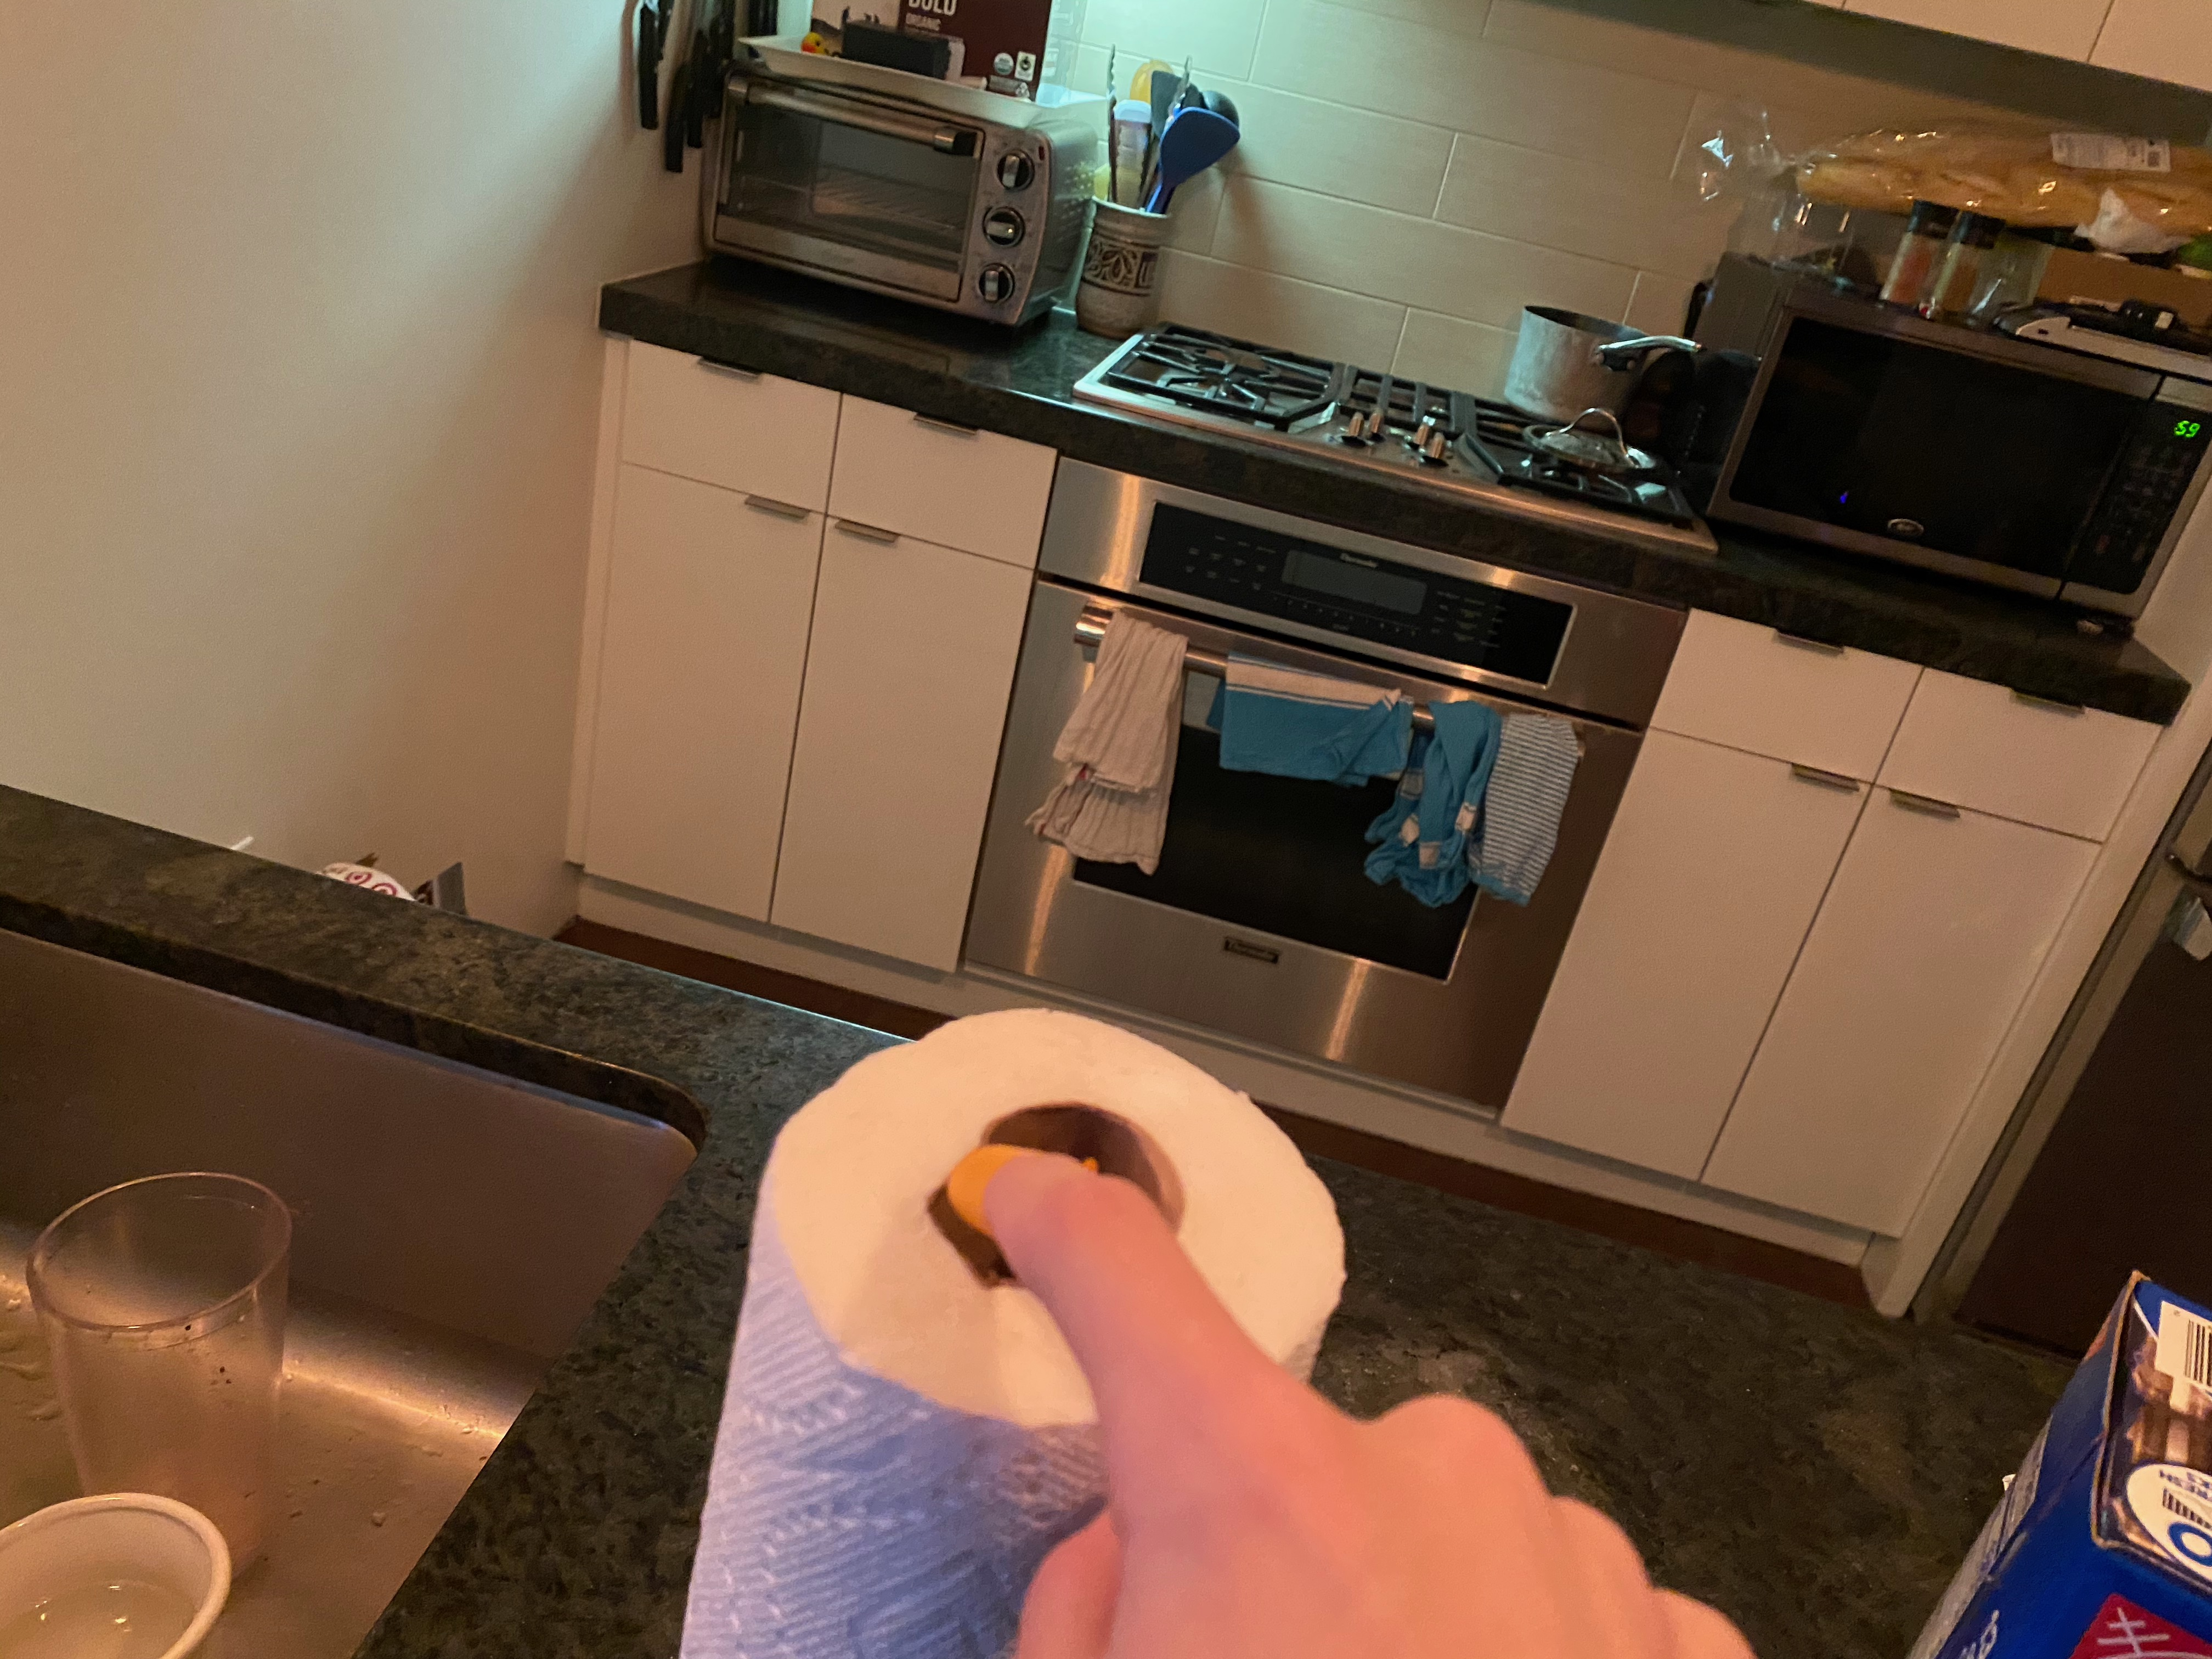fingertip: (927, 1133, 1080, 1258)
